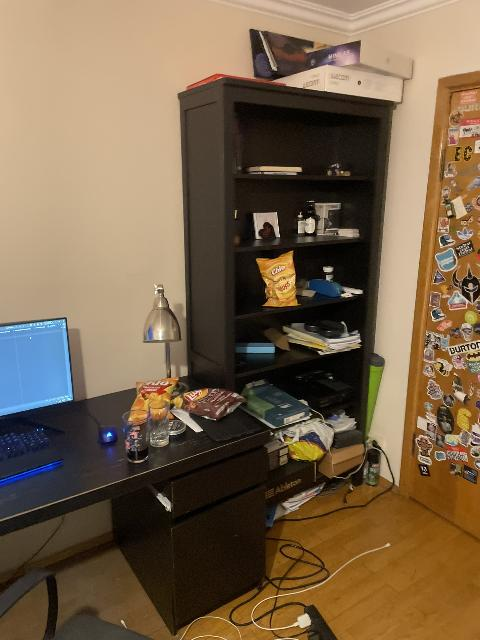Chio Cascaval 125g: (133, 377, 183, 420)
Chio Hula Hoops Cheese 70g: (255, 250, 300, 307)
Lays Beef Grilled Ribs 125g: (177, 388, 242, 421)
